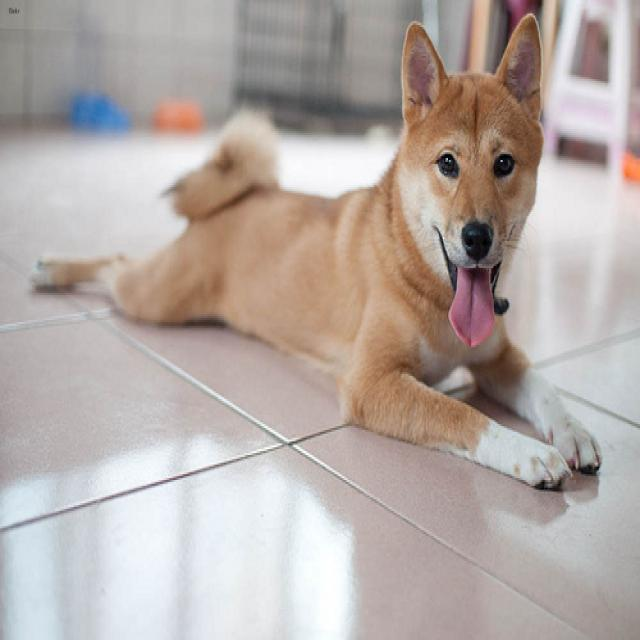dog-shiba_inu: (18, 6, 611, 499)
